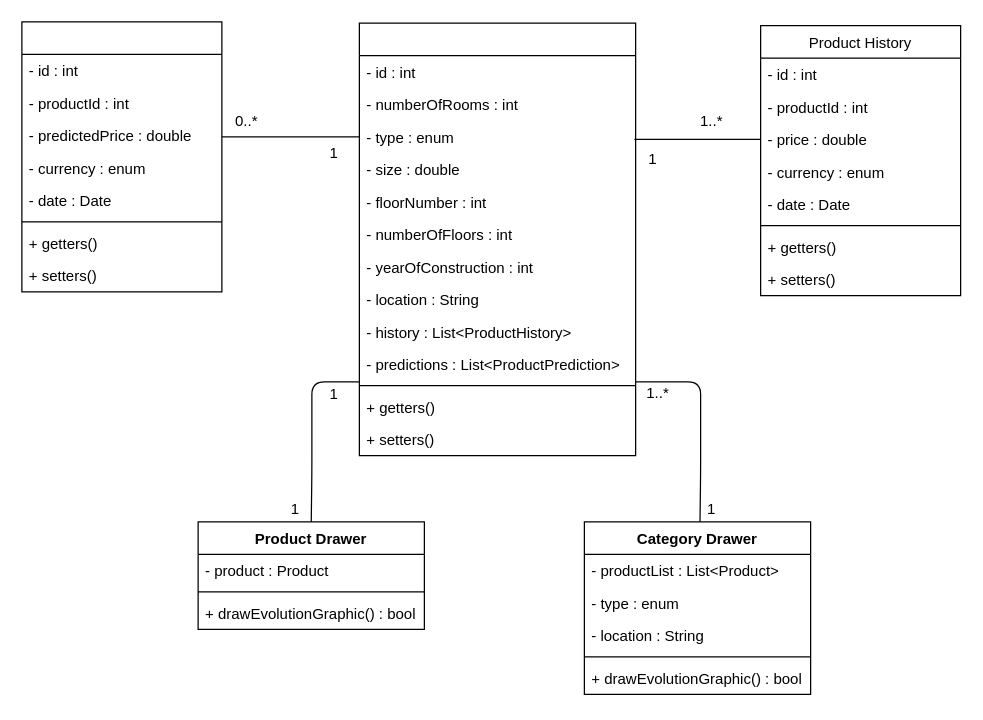
This 983x720 diagram has some shape labels left out. Each missing label, with the box of its shape:
Product: (358, 22, 636, 456)
Product Prediction: (21, 21, 222, 292)
